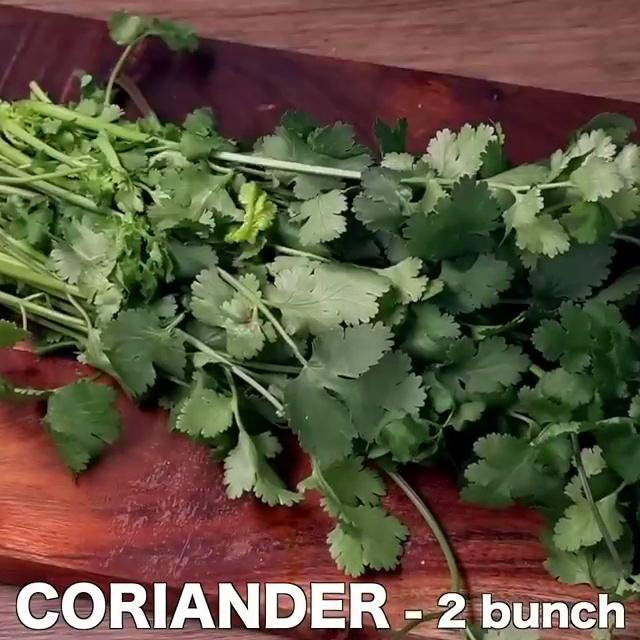cilantro: (95, 123, 640, 555)
